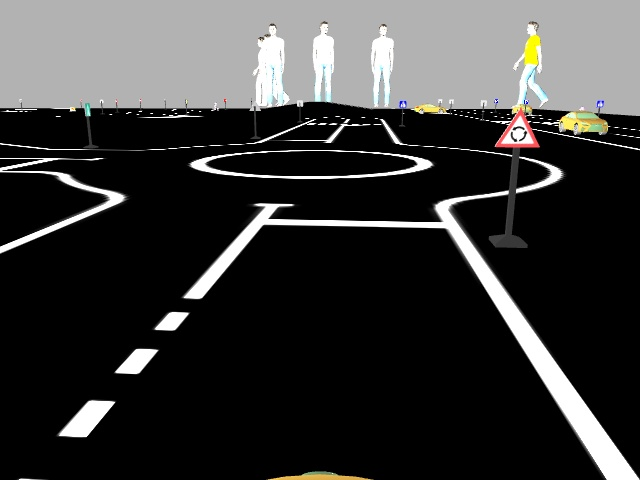Roundabout: (489, 109, 540, 149)
